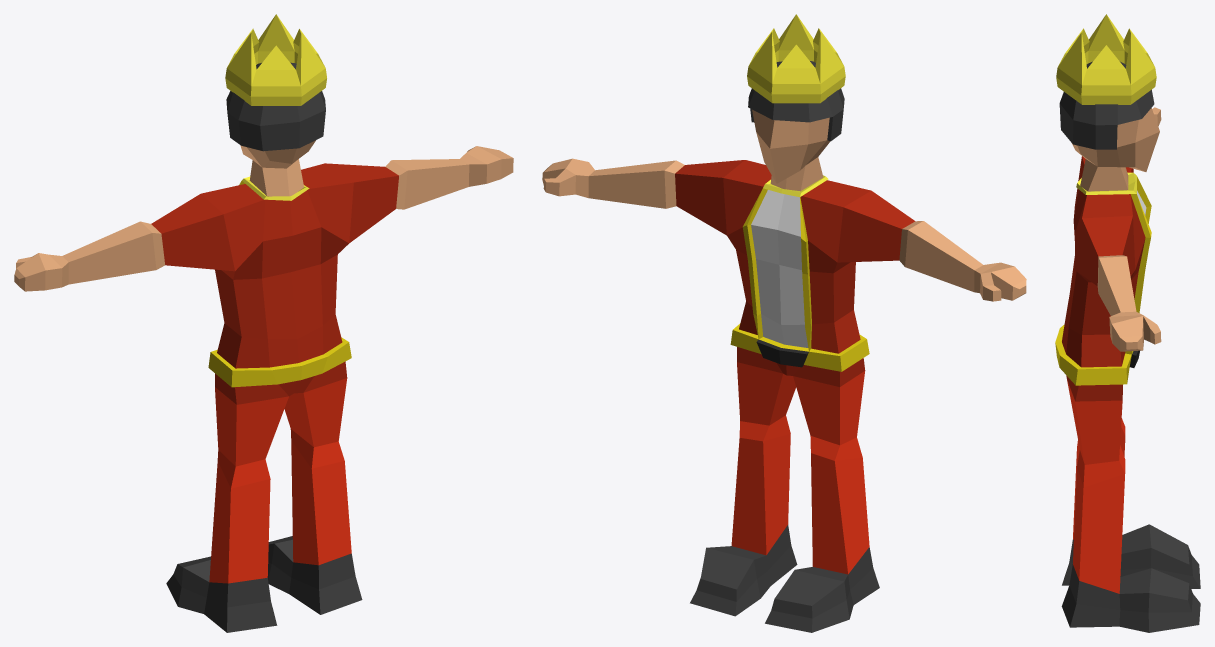
File: King.fbx
3 renders of one model, left to right at view 1: azimuth 30°, elevation 25°; view 2: azimuth 150°, elevation 25°; view 3: azimuth 270°, elevation 25°, orthographic. The views are drawn at different scales.
Visible parts, largest first — view 1: Main.005; view 2: Main.005; view 3: Main.005.
Boxes of the visible parts, x1=… form: Main.005: x1=14, y1=14, x2=513, y2=632; Main.005: x1=542, y1=14, x2=1026, y2=632; Main.005: x1=1055, y1=14, x2=1200, y2=632.
Bounding box in the file's own units: 3.76 × 0.9699 × 4.2.
